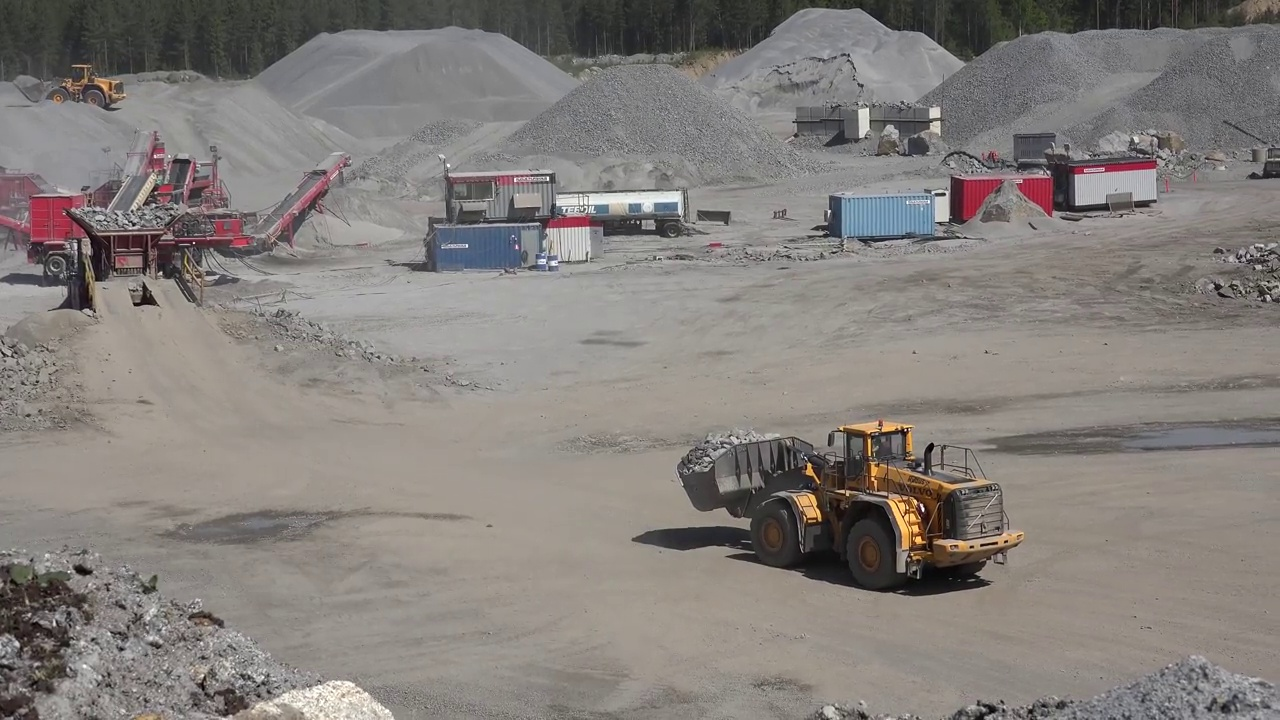truck: (546, 182, 692, 238), (29, 190, 72, 263)
wheel loader: (677, 418, 1024, 597), (15, 64, 125, 107)
